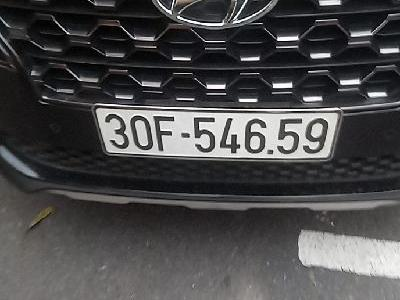number: (91, 103, 339, 167)
